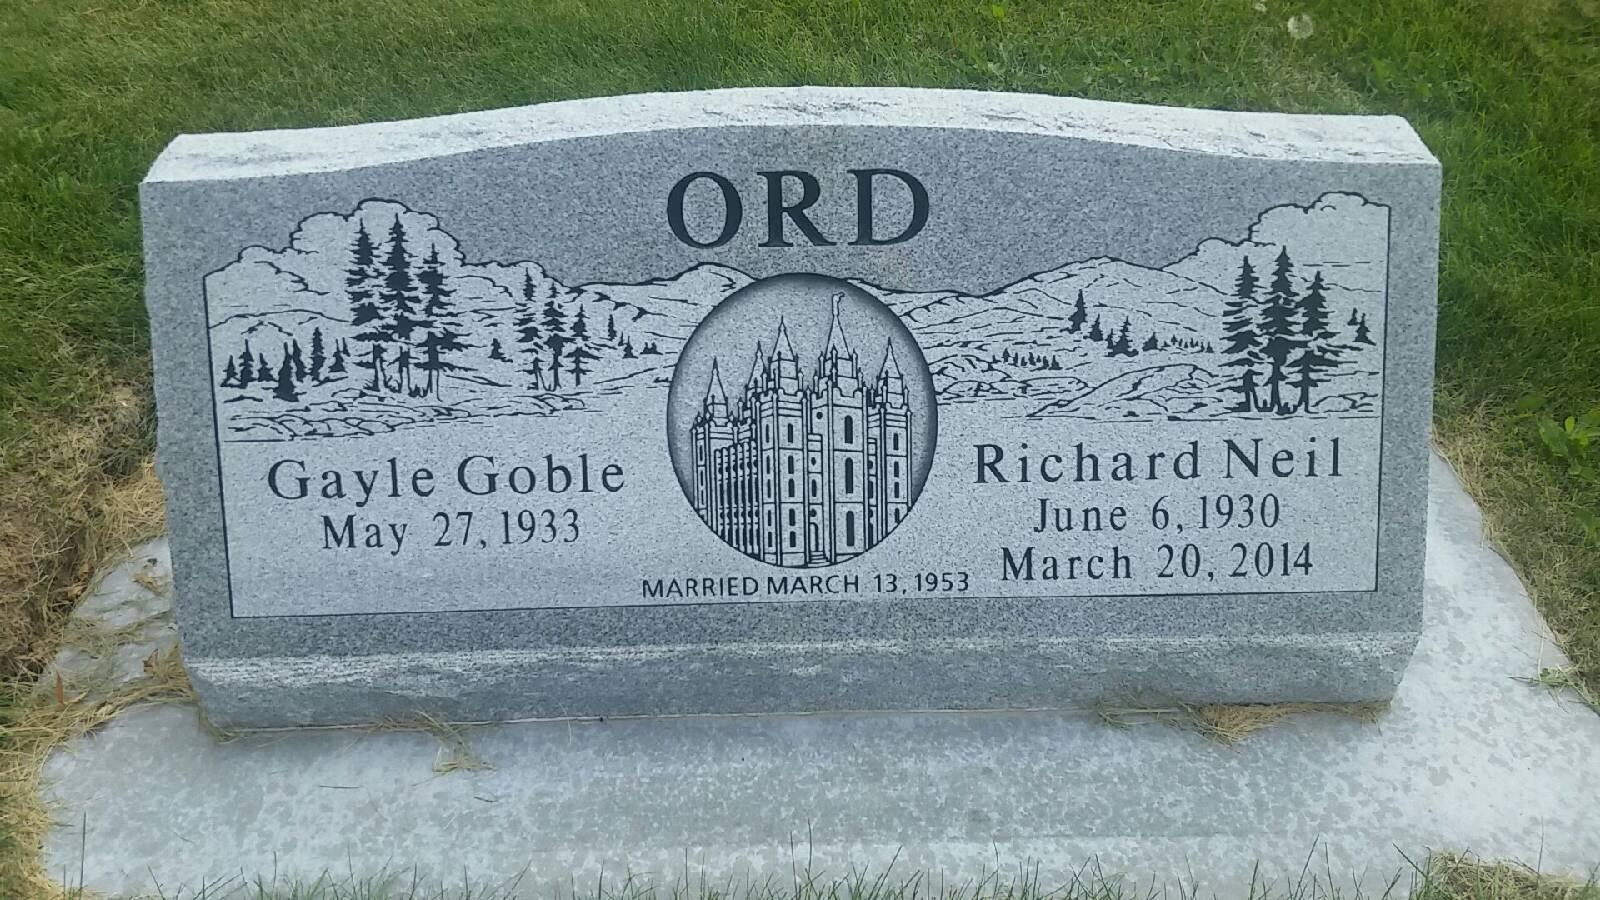upright: (11, 14, 1591, 886)
